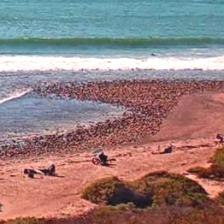surfer: (150, 53, 156, 56)
